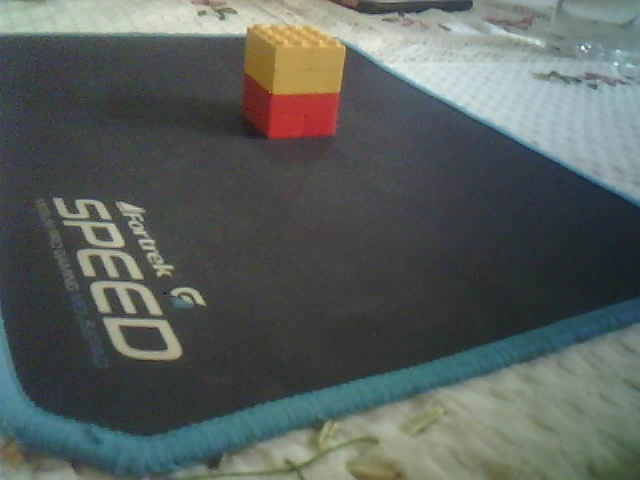lego: (239, 23, 347, 141)
